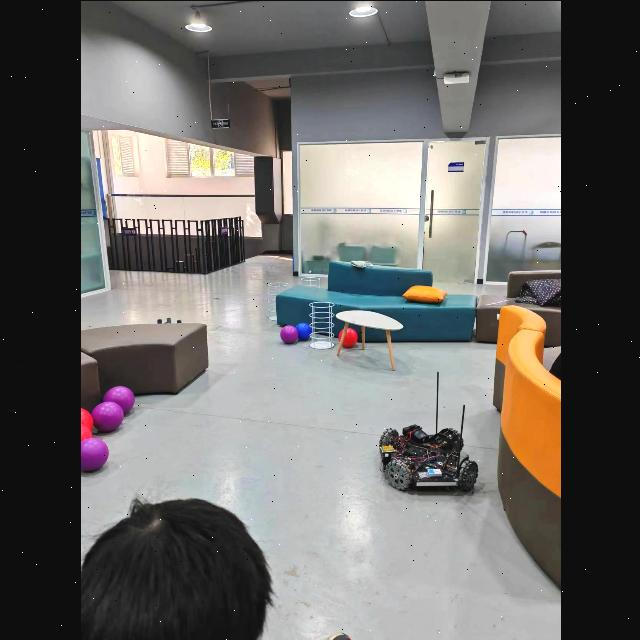B: (295, 321, 310, 339)
P: (90, 401, 122, 431), (79, 436, 107, 470), (102, 385, 134, 413), (279, 324, 297, 343)
R: (337, 327, 357, 347), (79, 407, 92, 429), (79, 422, 92, 440)
S: (309, 301, 333, 348)
